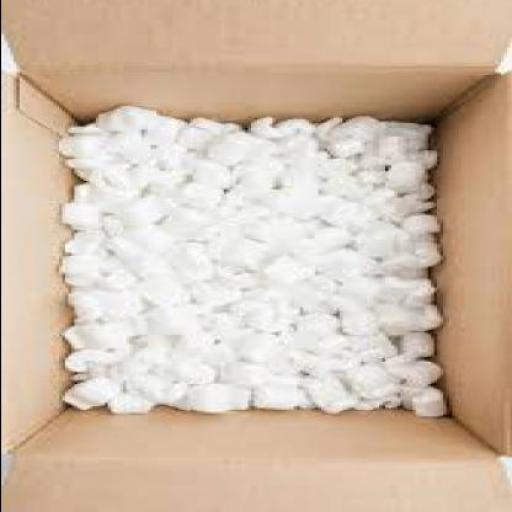cardboard: (2, 1, 511, 105), (5, 411, 511, 512), (3, 77, 82, 456), (448, 67, 511, 459)
